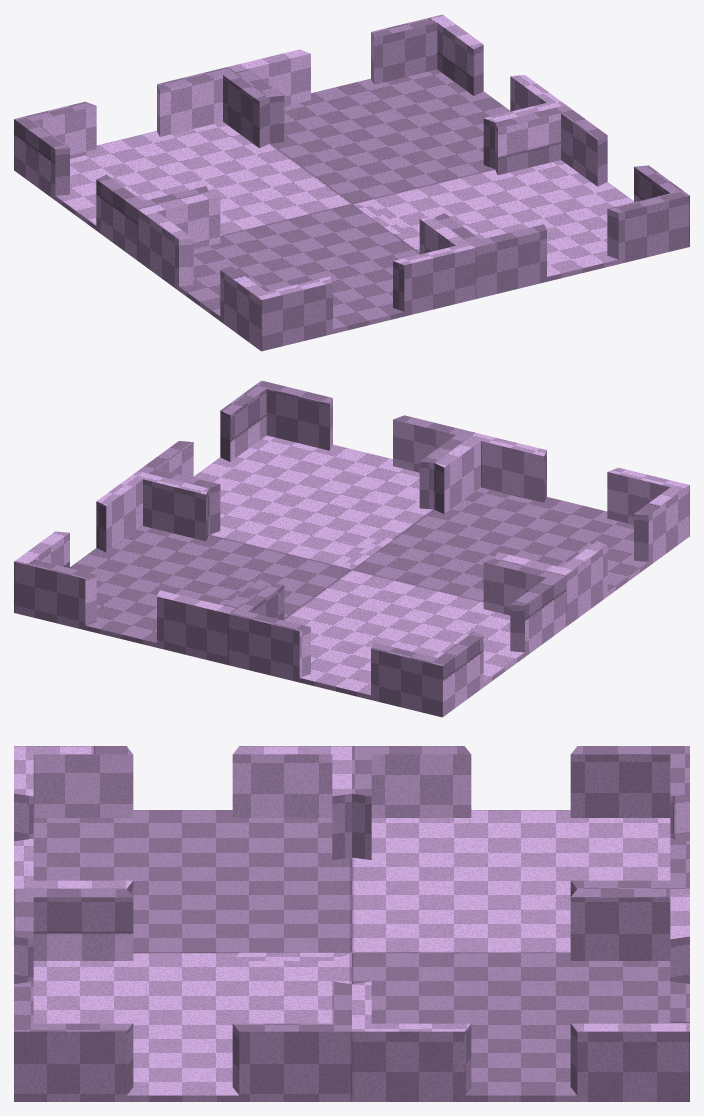
File: Room2x2.glb
3 renders of one model, top to bottom at view 1: azimuth 30°, elevation 25°; view 2: azimuth 150°, elevation 25°; view 3: azimuth 270°, elevation 25°, orthographic. The views are drawn at different scales.
Parts seen in each view (by area): view 1: Cube.001; view 2: Cube.001; view 3: Cube.001.
Part boxes in pixels (box(x1,y1,x2,y2)): Cube.001: box(14, 14, 689, 351); Cube.001: box(14, 380, 689, 717); Cube.001: box(14, 746, 689, 1101).
Size of the model in its own units: 2 by 0.2288 by 2.
1 material, 1 textured.
